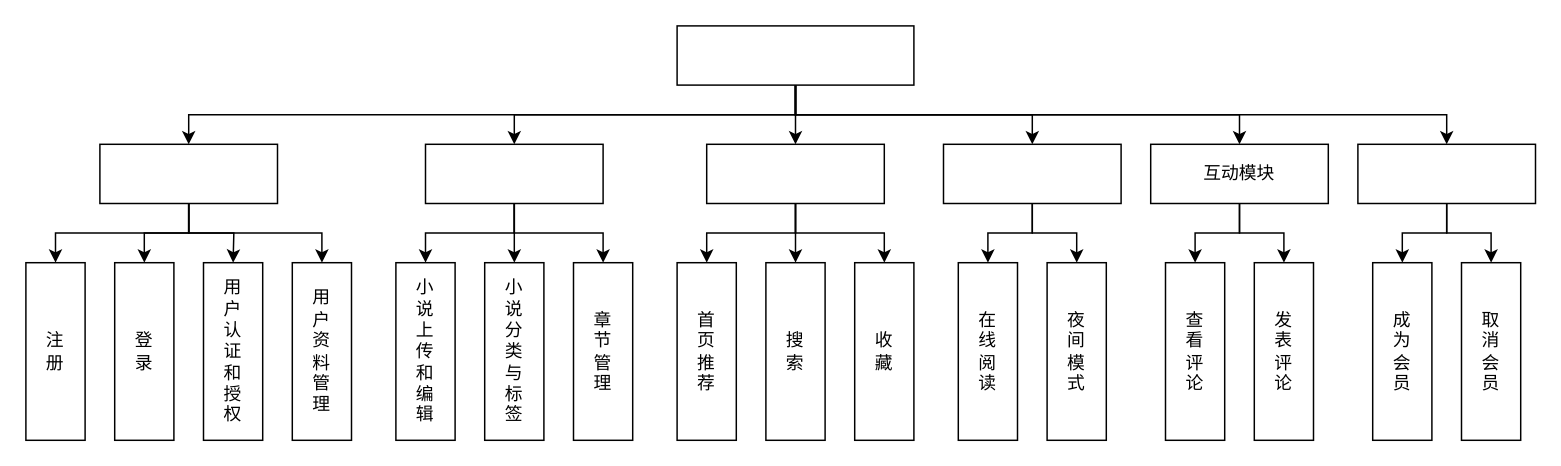
Some shapes in this 1561 by 466 pixel diagram are drawn without their labels. The box of each missing label's shape, as (x1, y1, x2, y2) in pixels:
FinalChapters系统: (676, 24, 914, 85)
会员模块: (1356, 143, 1536, 204)
内容浏览: (705, 143, 884, 204)
小说管理: (424, 143, 603, 204)
用户管理模块: (98, 143, 278, 204)
阅读模块: (942, 143, 1121, 204)
